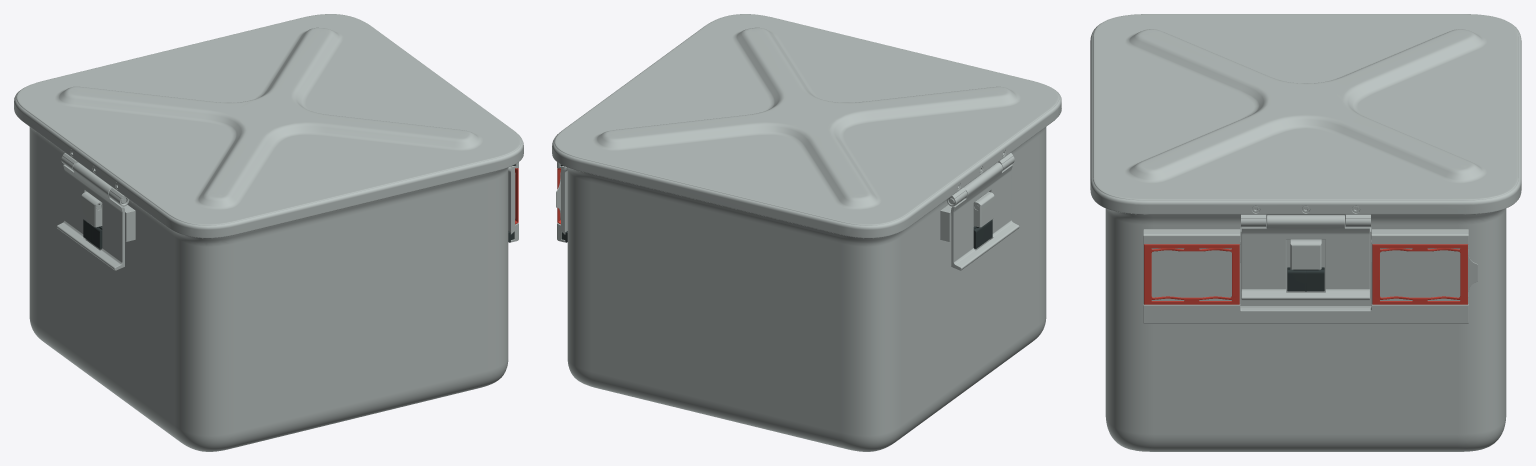
Rendered from container_system_sterilising_a03.glb.
3 renders of one model, left to right at view 1: azimuth 30°, elevation 25°; view 2: azimuth 150°, elevation 25°; view 3: azimuth 270°, elevation 25°, orthographic. The views are drawn at different scales.
Size of the model in its own units: 0.3278 by 0.2104 by 0.3013.
